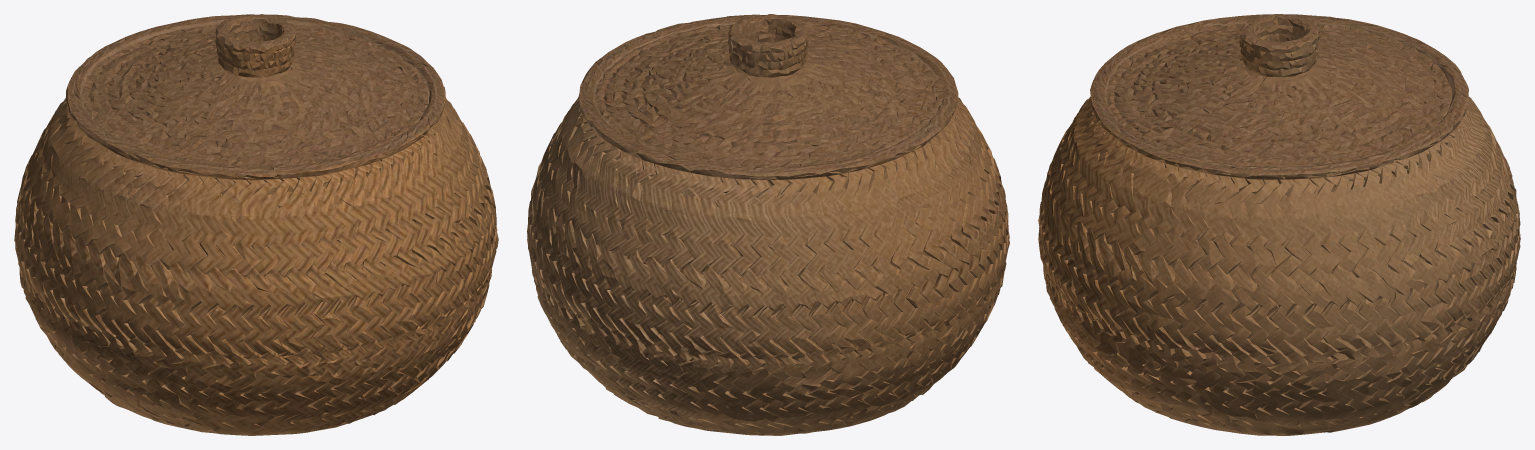
The model's file is sobika.glb.
3 renders of one model, left to right at view 1: azimuth 30°, elevation 25°; view 2: azimuth 150°, elevation 25°; view 3: azimuth 270°, elevation 25°, orthographic.
Bounding box in the file's own units: 1.9 × 1.48 × 1.9.
Materials: 1 (1 with a texture image).
